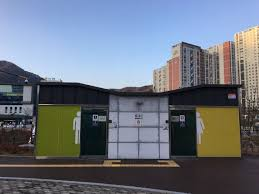guide_blocks: (2, 163, 178, 168), (102, 159, 120, 163), (159, 160, 175, 164)
